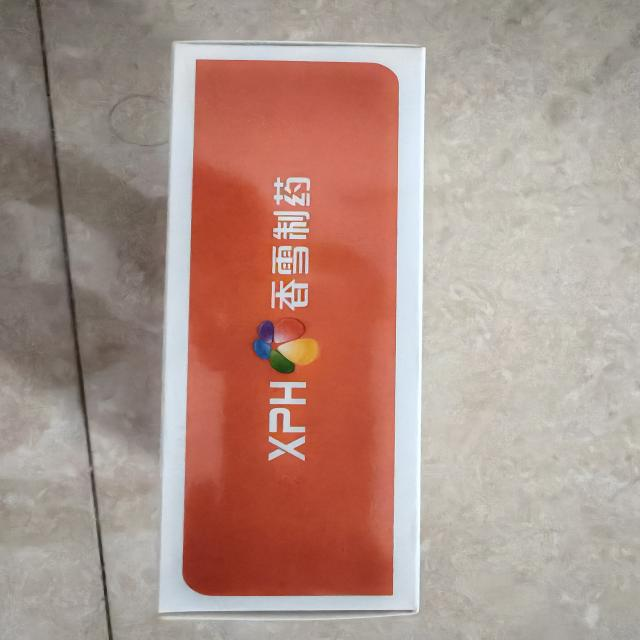box: (150, 32, 448, 627)
